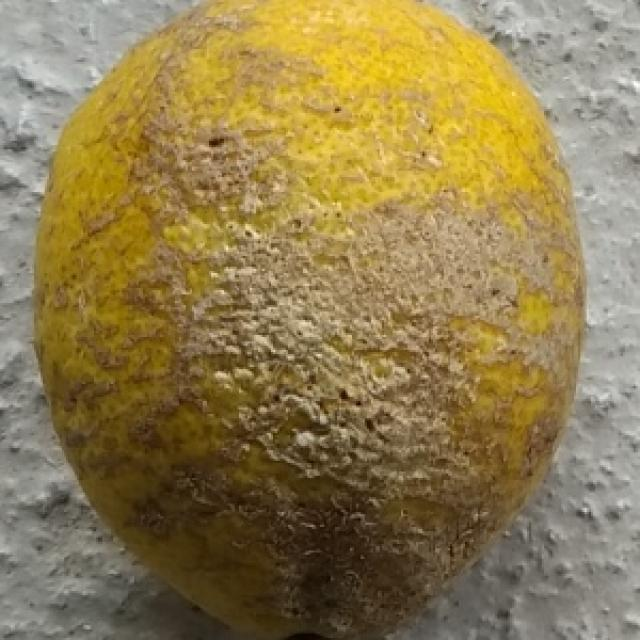overripe: (28, 0, 601, 640)
